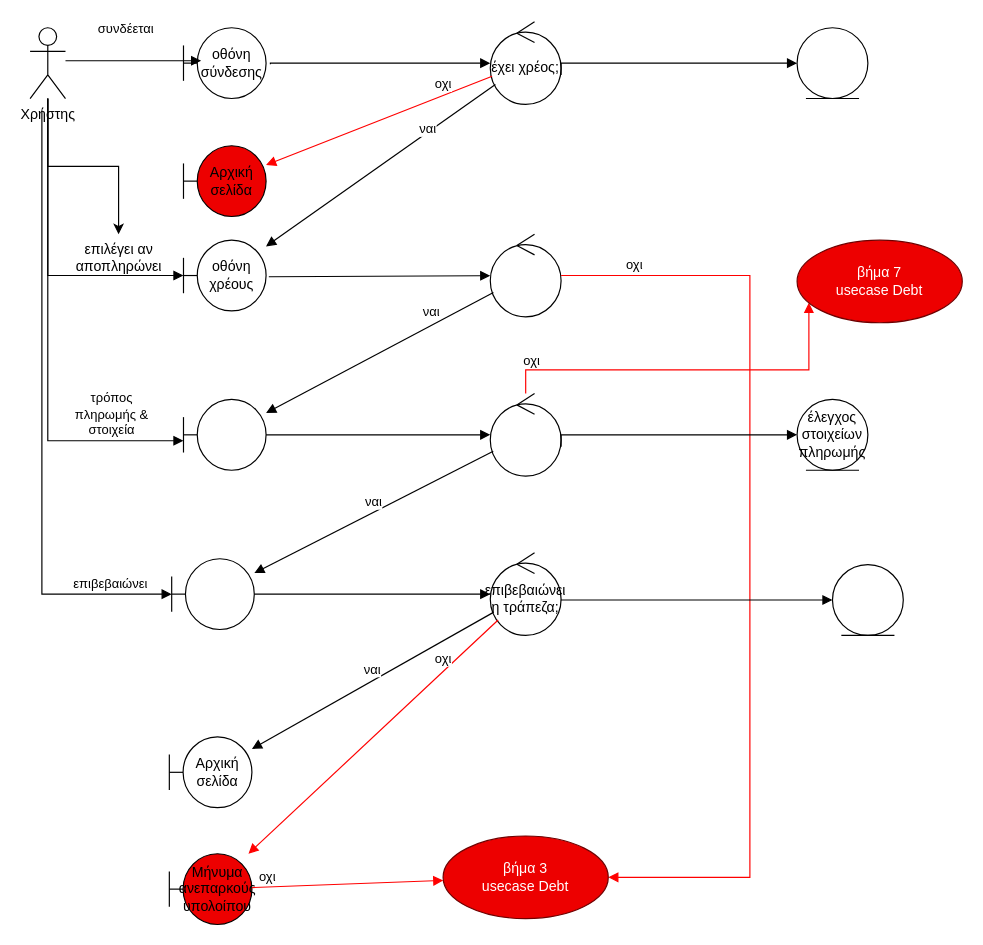
The diagram is 983 pixels wide and 945 high, and some of its shapes have lost their labels. The centre of each missing label's shape, as x and y in pixels:
"έλεγχος χρεους χρήστη" belongs at pixel 832 63.
"δέχεται να πληρώσει;" belongs at pixel 525 275.
"Οθόνη αποπληρωμής" belongs at pixel 224 434.
"οθόνη επιβεβαίωσης" belongs at pixel 212 594.
"σωστά στοιχεία;" belongs at pixel 525 434.
"τράπεζα χρήστη" belongs at pixel 867 599.
